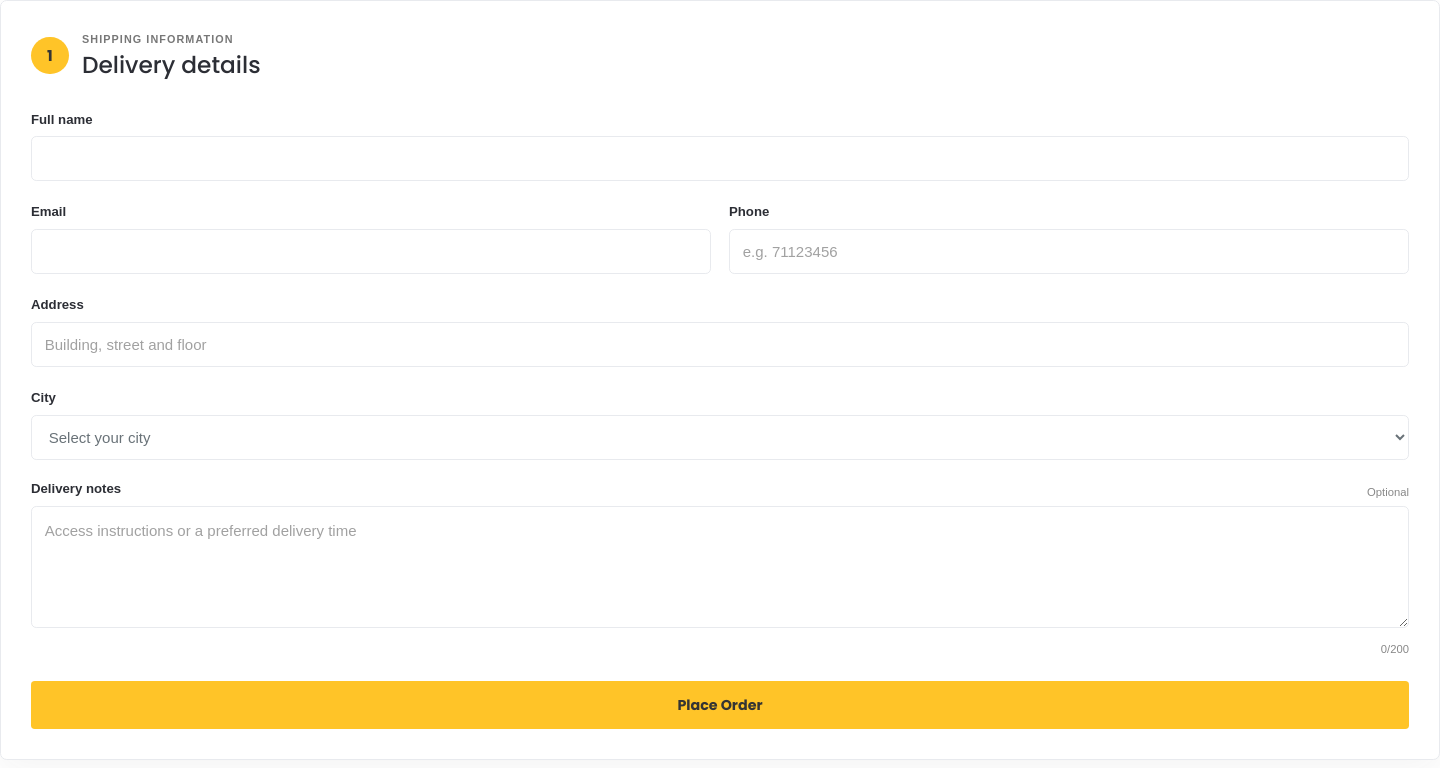
CheckoutForm validation › shows required field errors and does not submit an empty form
Click the button "Place Order": (720,705) [31,682,1409,729]
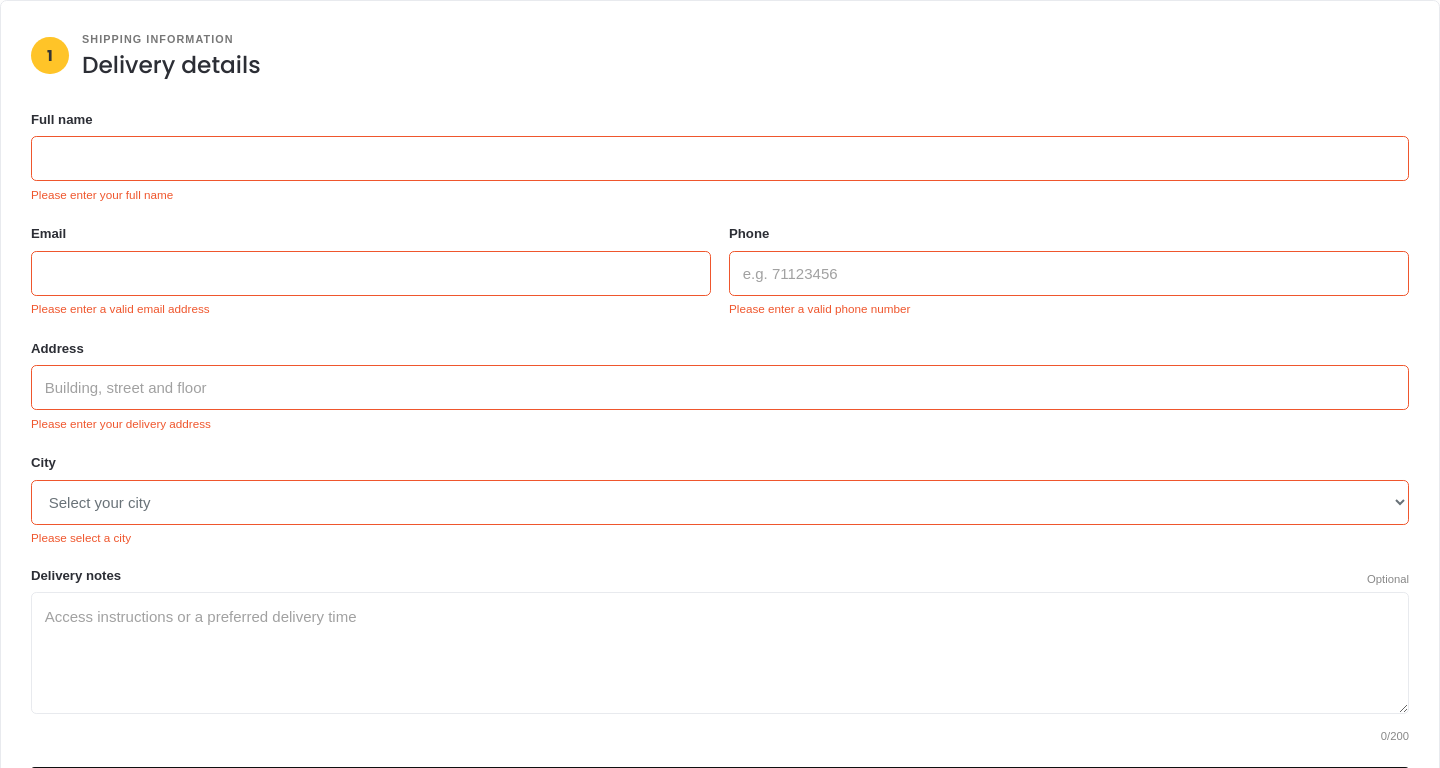
Now the text "Please enter your full name" is shown, box [31,188,173,201]
Now the text "Please enter a valid email address" is shown, box [31,302,210,315]
Now the text "Please enter a valid phone number" is shown, box [729,302,910,315]
